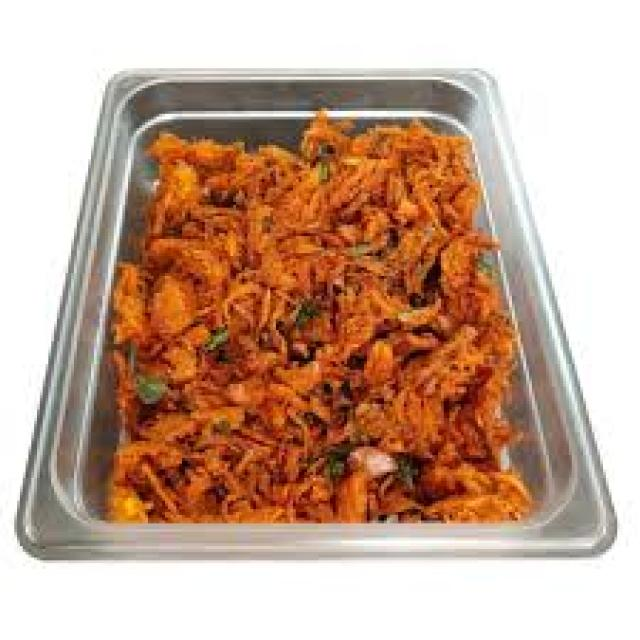BAJI: (82, 112, 550, 531)
